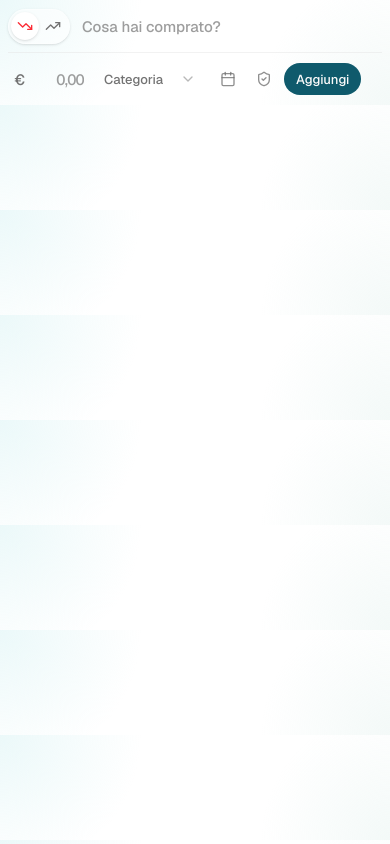
Scenario: QuickExpenseInput › hides the expense nature icon when switching to income
Click the button named "Registra come Entrata": (53, 26) [39,12,67,40]
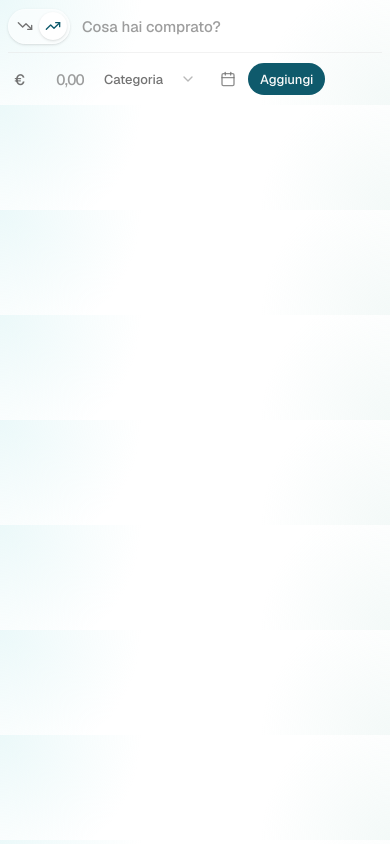
Check: the button with test id "quick-expense-date-trigger" is shown, box [212,63,244,95]
Check: the button with test id "quick-expense-superfluous-trigger" is gone
